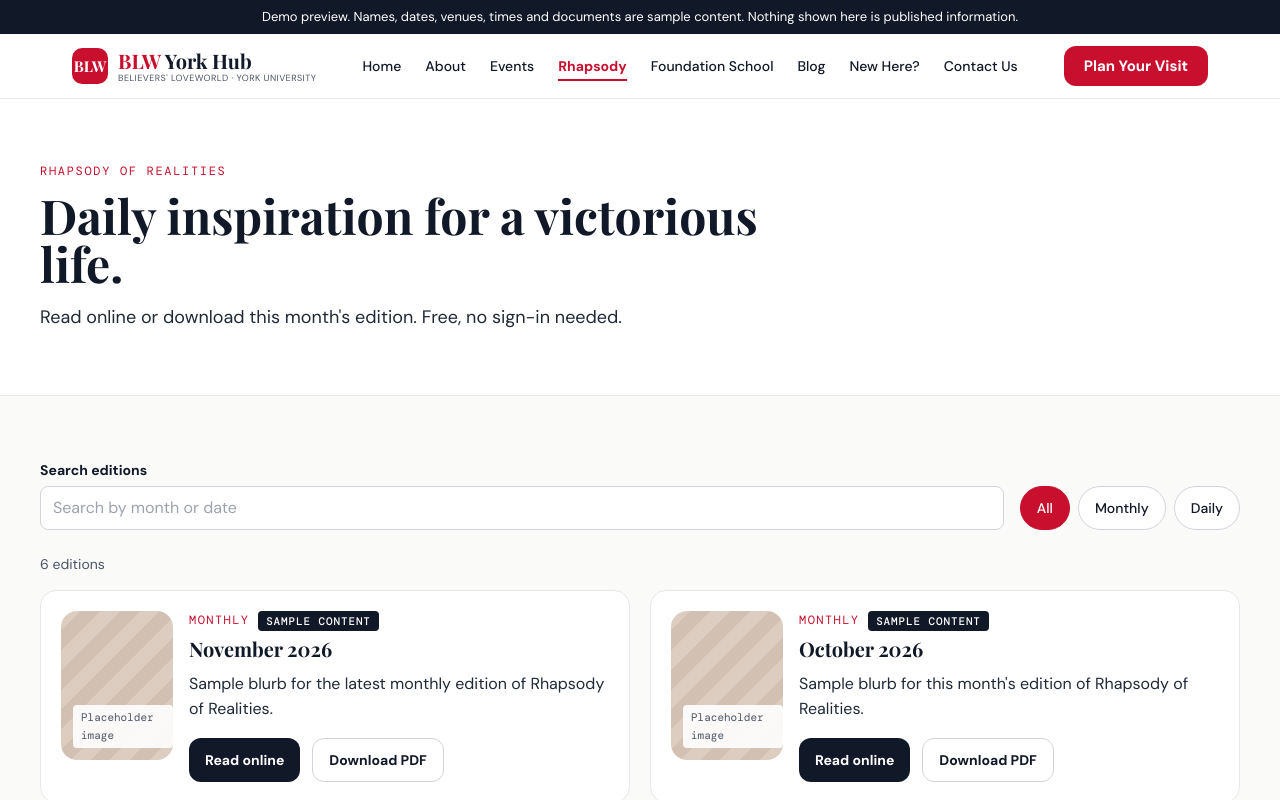
Scenario: Rhapsody › filters the library by search text
The image size is (1280, 800).
Type "daily" into the search field labelled "Search editions" at (522, 508), box x1=40 y1=486 x2=1004 y2=530
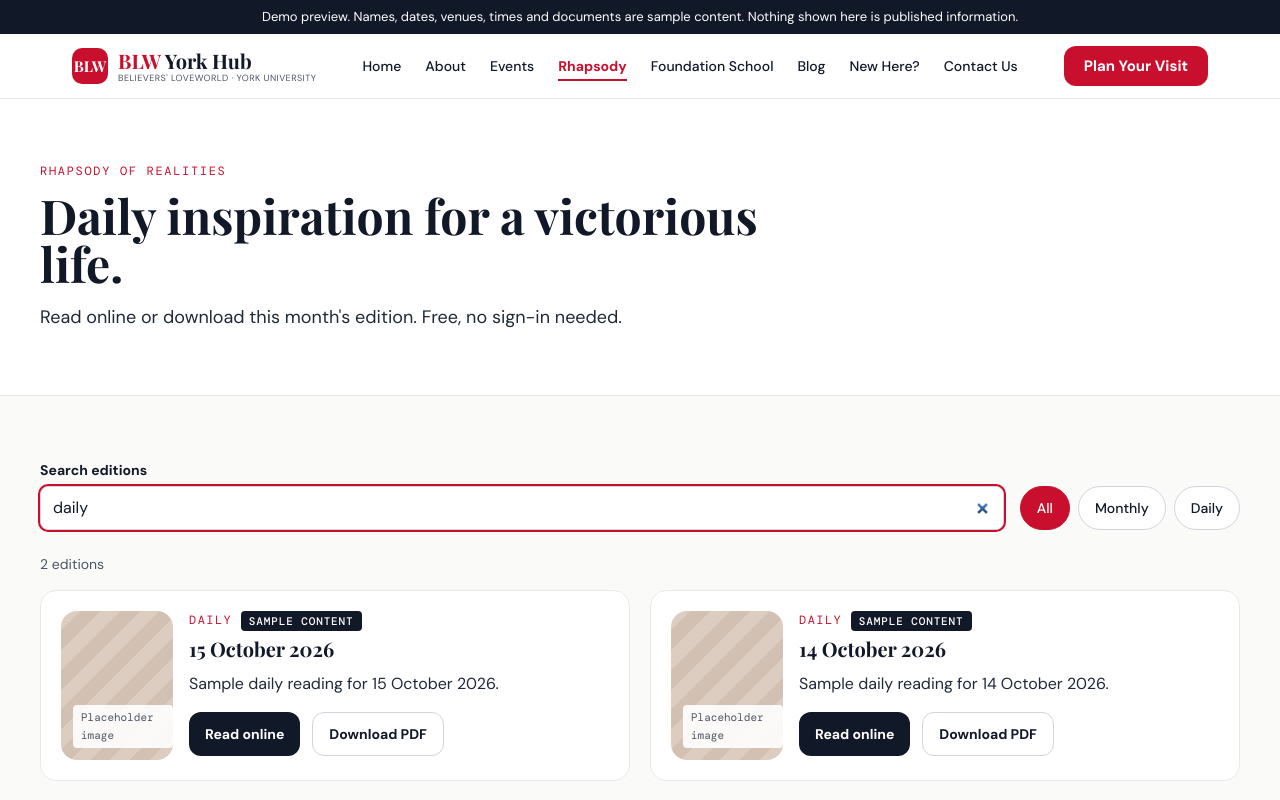
Expected: the message reads "2 editions", x1=40 y1=555 x2=104 y2=573
